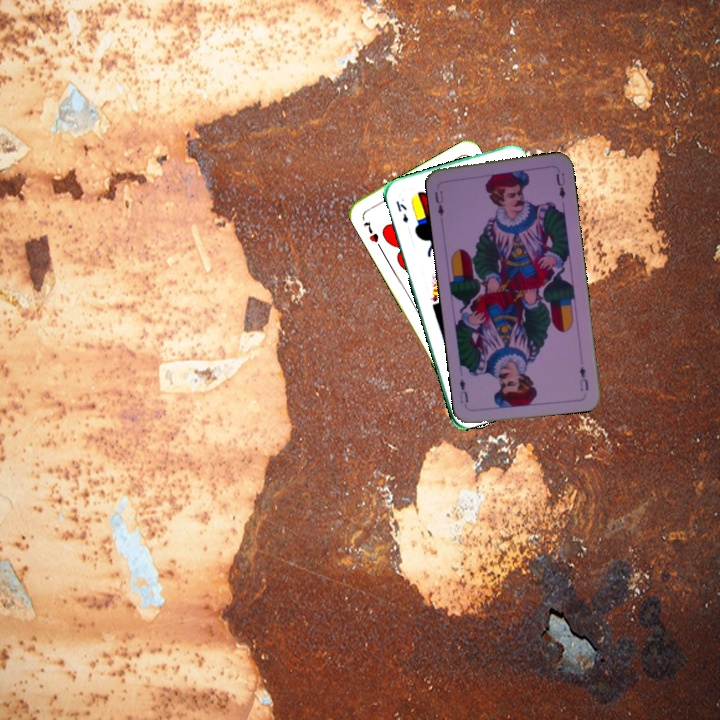EK: (392, 197, 411, 226)
EU: (575, 362, 591, 393), (431, 187, 446, 219)
H7: (359, 217, 381, 245)
